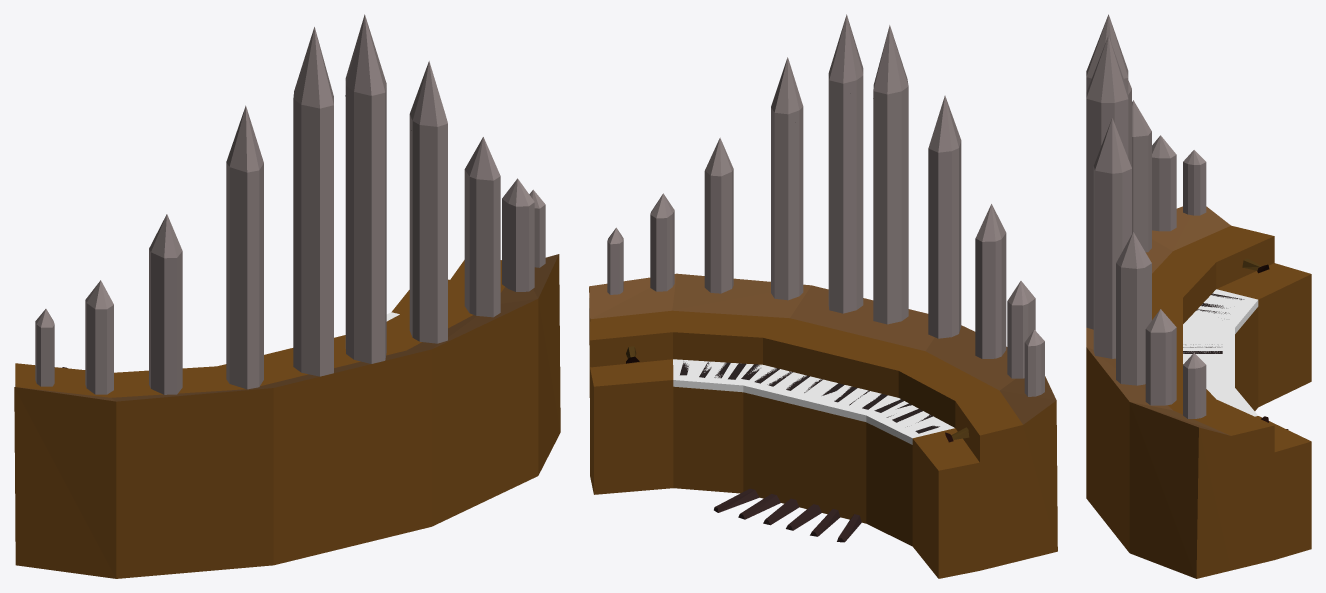
The model's file is obj_church_organ_0.obj.
3 views of the same model, side by side, from view 1: azimuth 30°, elevation 25°; view 2: azimuth 150°, elevation 25°; view 3: azimuth 270°, elevation 25° (orthographic). The views are drawn at different scales.
Bounding box in the file's own units: 3.39 × 3.07 × 1.42.
